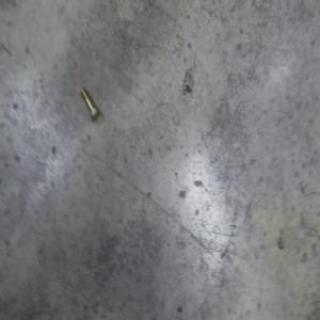Bolttrack_idkeyframe: (77, 84, 99, 121)
